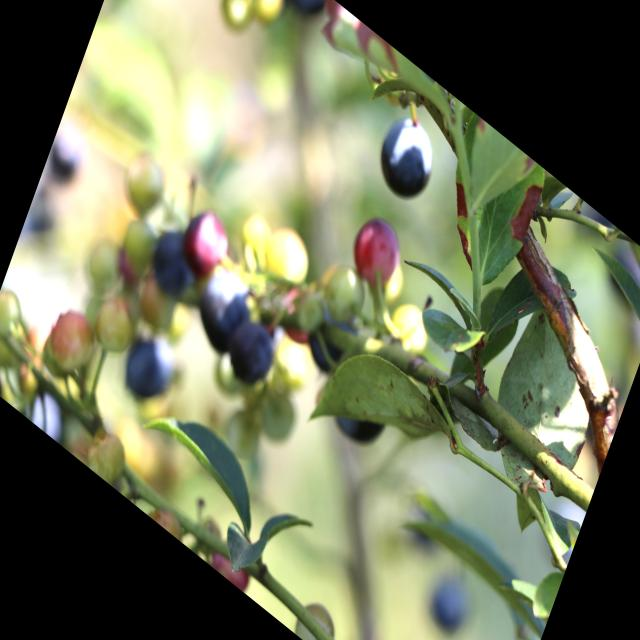blueberry: (370, 104, 443, 212), (188, 265, 258, 374), (224, 310, 282, 398), (121, 326, 177, 410), (150, 224, 205, 306)
blueberry-halfripe: (347, 200, 408, 290), (44, 304, 102, 388), (178, 197, 234, 282)
blueberry-unripe: (384, 290, 439, 370), (263, 219, 317, 297), (319, 256, 370, 335), (91, 289, 142, 367), (82, 419, 131, 489), (289, 278, 331, 340)
